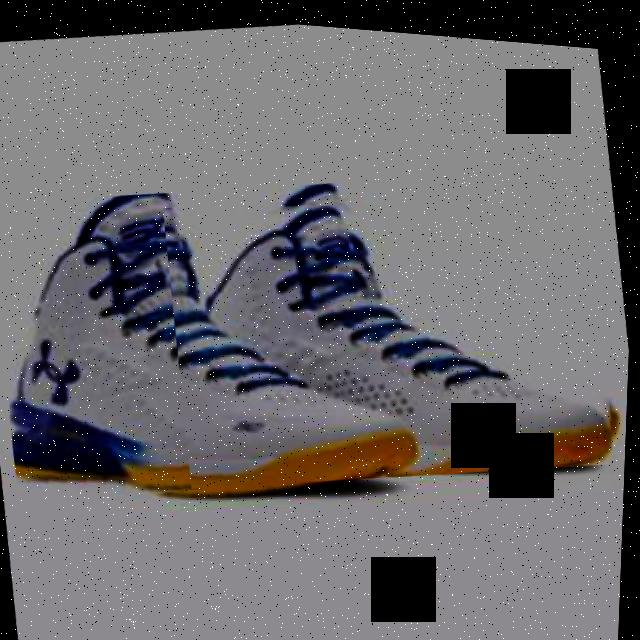shoe: (156, 145, 633, 512), (0, 147, 438, 535)
